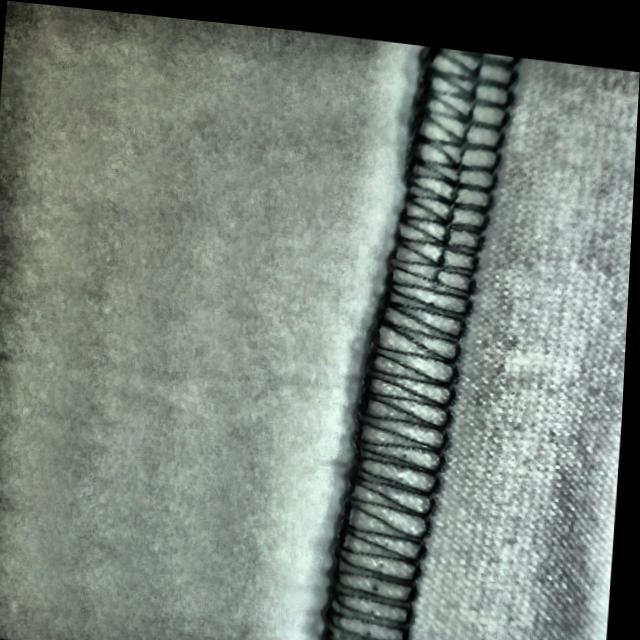Stitch: (359, 32, 514, 443)
